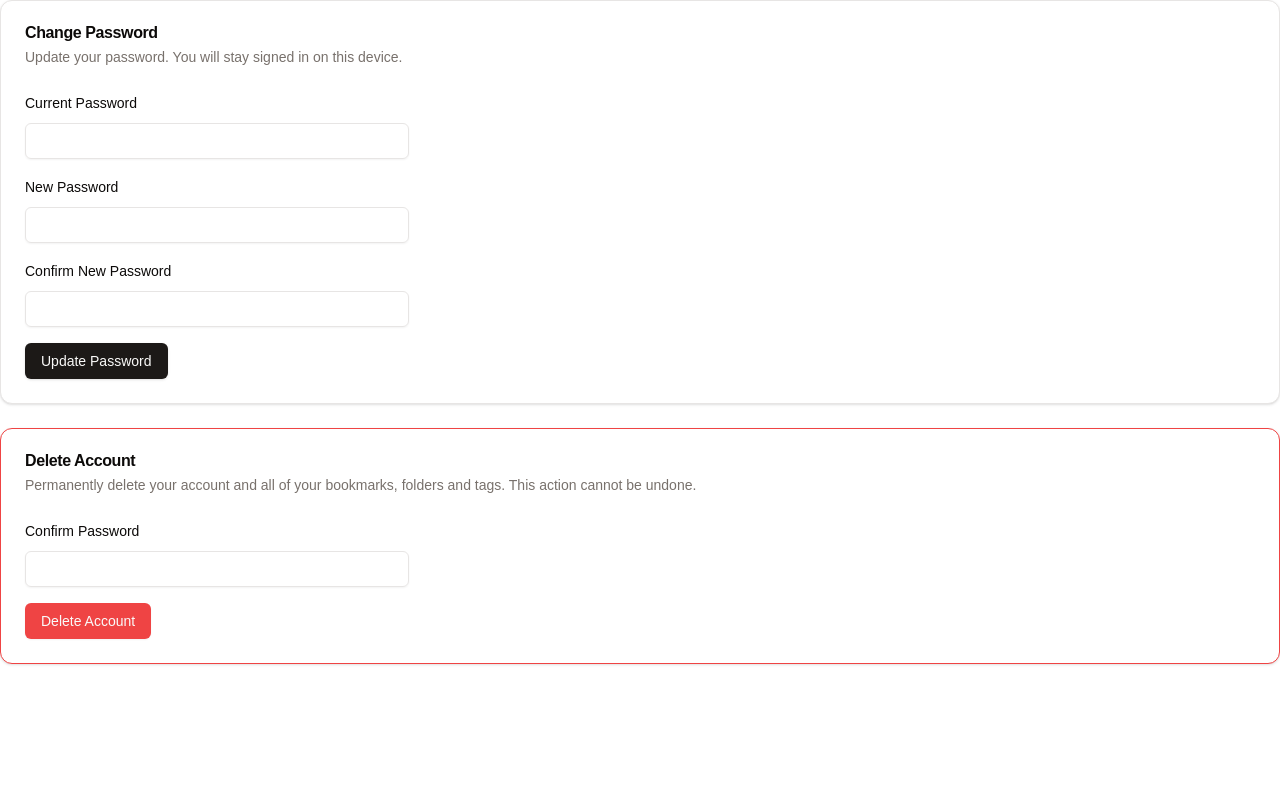
Test: AccountSettings › does not open the delete confirmation dialog without a password
The width and height of the screenshot is (1280, 800).
Click the button "Delete Account". click: (88, 621)
box: x1=25 y1=603 x2=151 y2=639
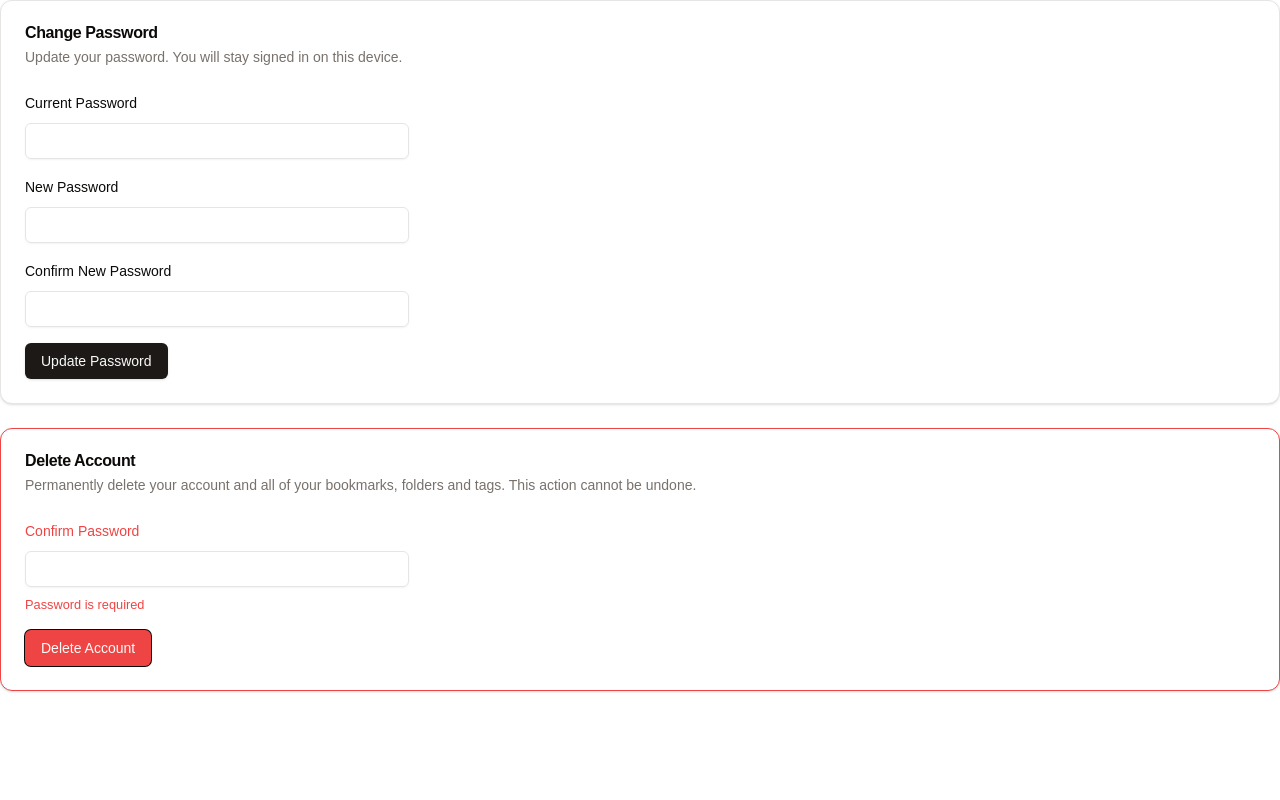
Expected: the text "Password is required" is shown, x1=25 y1=597 x2=144 y2=612
